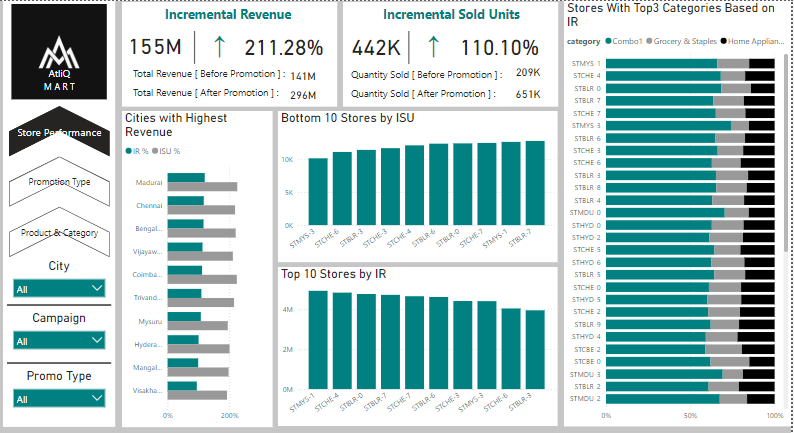

Layout of this report page (visuals, bound fields, positions):
{"tool":"powerbi","page":{"name":"Store Performance","canvas":[1320,720],"ordinal":0},"visuals":[{"type":"group","id":"g1","title":"Group 1","box":[7.2,0,187.2,709.9],"z":0},{"type":"shape","box":[7.2,0,187.2,709.9],"z":0,"group":"g1"},{"type":"shape","box":[204.5,1.4,358.6,174.2],"z":0,"group":"g4"},{"type":"shape","box":[573.1,1.4,358.6,174.2],"z":0,"group":"g3"},{"type":"image","box":[7.2,0,187.2,169.4],"z":1000,"group":"g1"},{"type":"card","fields":{"Values":["fact_events.IR %"]},"box":[755,41.3,157.8,64.9],"z":1000,"group":"g3"},{"type":"columnChart","title":"Top 10 Stores by IR","fields":{"Category":["dim_stores.store_id"],"Y":["fact_events.Total_IR"]},"box":[464.6,443.9,466.1,265.5],"z":1000},{"type":"card","fields":{"Values":["fact_events.ISU Arrow"]},"box":[688.1,40,72,59],"z":2000,"group":"g3"},{"type":"textbox","box":[7.2,105,187.2,32.2],"z":2000,"group":"g1"},{"type":"columnChart","title":"Bottom 10 Stores by ISU","fields":{"Category":["dim_stores.store_id"],"Y":["fact_events.Total_ISU"]},"box":[464.6,182.9,466.1,252.2],"z":2000},{"type":"card","fields":{"Values":["fact_events.Total_ISU"]},"box":[573.6,41.3,110.6,64.9],"z":3000,"group":"g3"},{"type":"textbox","box":[7.2,127.4,187.2,42],"z":3000,"group":"g1"},{"type":"clusteredBarChart","title":"Cities with Highest Revenue","fields":{"Category":["dim_stores.city"],"Y":["fact_events.IR %","fact_events.ISU %"]},"box":[205,182.9,250.7,526.5],"z":3000},{"type":"hundredPercentStackedBarChart","title":"Stores With Top3 Categories Based on IR","fields":{"Category":["fact_events.store_id"],"Series":["dim_products.category"],"Y":["Sum(fact_events.IR)"]},"box":[941,0,379,709.4],"z":4000},{"type":"textbox","box":[581.6,105.9,275,36],"z":4000,"group":"g3"},{"type":"slicer","title":"City","fields":{"Values":["dim_stores.city"]},"box":[14,429.9,173.5,86.8],"z":4000,"group":"g1"},{"type":"group","id":"g2","title":"Group 4","box":[204.5,1.4,358.6,174.2],"z":5000},{"type":"textbox","box":[581.6,137.6,267.8,37.4],"z":5000,"group":"g3"},{"type":"slicer","title":"Promo Type","fields":{"Values":["fact_events.promo_type"]},"box":[14,613.3,173.5,86.8],"z":5000,"group":"g1"},{"type":"group","id":"g3","title":"Group 5","box":[573.1,1.4,358.6,174.2],"z":6000},{"type":"card","fields":{"Values":["fact_events.Total_IR"]},"box":[204.5,40.3,109.4,64.8],"z":6000,"group":"g4"},{"type":"card","fields":{"Values":["Sum(fact_events.quantity_sold(before_promo))"]},"box":[849.4,104.7,63.4,29.5],"z":6000,"group":"g3"},{"type":"slicer","title":"Campaign","fields":{"Values":["dim_campaigns.campaign_name"]},"box":[14,516.7,173.5,86.8],"z":6000,"group":"g1"},{"type":"card","fields":{"Values":["Sum(fact_events.Quantity Sold (AP))"]},"box":[849.4,140.1,63.4,31],"z":7000,"group":"g3"},{"type":"shape","box":[14,484.5,173.5,43.4],"z":7000,"group":"g1"},{"type":"textbox","box":[598.7,1.4,311.2,39.8],"z":8000,"group":"g3"},{"type":"pageNavigator","box":[16.8,175,168.1,254.8],"z":8000,"group":"g1"},{"type":"card","fields":{"Values":["fact_events.ISU %"]},"box":[393.1,41.7,162.7,64.8],"z":9000,"group":"g4"},{"type":"shape","box":[662.1,50.1,42.8,54.6],"z":9000,"group":"g3"},{"type":"shape","box":[14,581.1,173.5,43.4],"z":9000,"group":"g1"},{"type":"textbox","box":[217.1,104,274.3,35.4],"z":10000,"group":"g4"},{"type":"card","fields":{"Values":["Sum(fact_events.Total_Revenue (BP))"]},"box":[476.7,106.5,59,37.4],"z":11000,"group":"g4"},{"type":"textbox","box":[217.1,136.4,266.9,32.4],"z":12000,"group":"g4"},{"type":"group","id":"g4","title":"Group 2","box":[204.5,1.4,358.6,174.2],"z":13000,"group":"g2"},{"type":"card","fields":{"Values":["Sum(fact_events.Total_Revenue (AP))"]},"box":[475.2,138.2,63.4,37.4],"z":13000,"group":"g4"},{"type":"textbox","box":[216,1.4,329.8,40.3],"z":18000,"group":"g4"},{"type":"shape","box":[303.9,50.4,41.8,54.7],"z":19001,"group":"g4"},{"type":"card","fields":{"Values":["Min(fact_events.IR Arrow)"]},"box":[330.5,40,72,59],"z":19003,"group":"g2"}]}

Visuals, with their boxes in screenshot pixels (x1, y1, x2, y2), scaled from the page's 1320x720 canvas onto the 794x433 screenshot:
"Group 1" group: <box>4,0,117,427</box>
shape: <box>4,0,117,427</box>
shape: <box>123,1,339,106</box>
shape: <box>345,1,560,106</box>
image: <box>4,0,117,102</box>
card - fact_events.IR %: <box>454,25,549,64</box>
"Top 10 Stores by IR" columnChart: <box>279,267,560,427</box>
card - fact_events.ISU Arrow: <box>414,24,457,60</box>
textbox: <box>4,63,117,83</box>
"Bottom 10 Stores by ISU" columnChart: <box>279,110,560,262</box>
card - fact_events.Total_ISU: <box>345,25,412,64</box>
textbox: <box>4,77,117,102</box>
"Cities with Highest Revenue" clusteredBarChart: <box>123,110,274,427</box>
"Stores With Top3 Categories Based on IR" hundredPercentStackedBarChart: <box>566,0,793,427</box>
textbox: <box>350,64,515,85</box>
"City" slicer: <box>8,259,113,311</box>
"Group 4" group: <box>123,1,339,106</box>
textbox: <box>350,83,511,105</box>
"Promo Type" slicer: <box>8,369,113,421</box>
"Group 5" group: <box>345,1,560,106</box>
card - fact_events.Total_IR: <box>123,24,189,63</box>
card - Sum(fact_events.quantity_sold(before_promo)): <box>511,63,549,81</box>
"Campaign" slicer: <box>8,311,113,363</box>
card - Sum(fact_events.Quantity Sold (AP)): <box>511,84,549,103</box>
shape: <box>8,291,113,317</box>
textbox: <box>360,1,547,25</box>
pageNavigator: <box>10,105,111,258</box>
card - fact_events.ISU %: <box>236,25,334,64</box>
shape: <box>398,30,424,63</box>
shape: <box>8,349,113,376</box>
textbox: <box>131,63,296,84</box>
card - Sum(fact_events.Total_Revenue (BP)): <box>287,64,322,87</box>
textbox: <box>131,82,291,102</box>
"Group 2" group: <box>123,1,339,106</box>
card - Sum(fact_events.Total_Revenue (AP)): <box>286,83,324,106</box>
textbox: <box>130,1,328,25</box>
shape: <box>183,30,208,63</box>
card - Min(fact_events.IR Arrow): <box>199,24,242,60</box>
